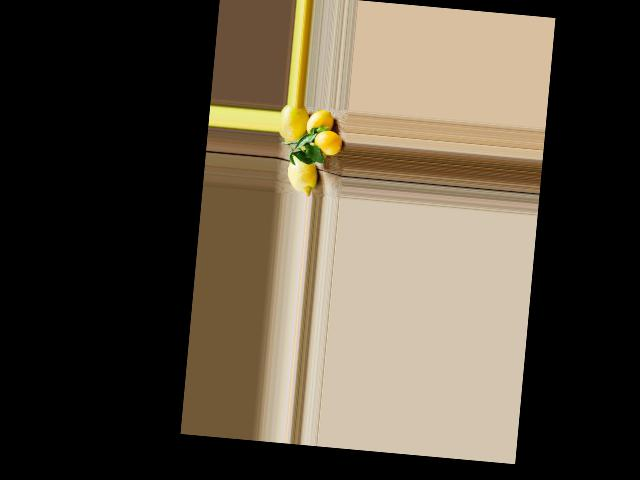lemon: (285, 147, 324, 196)
